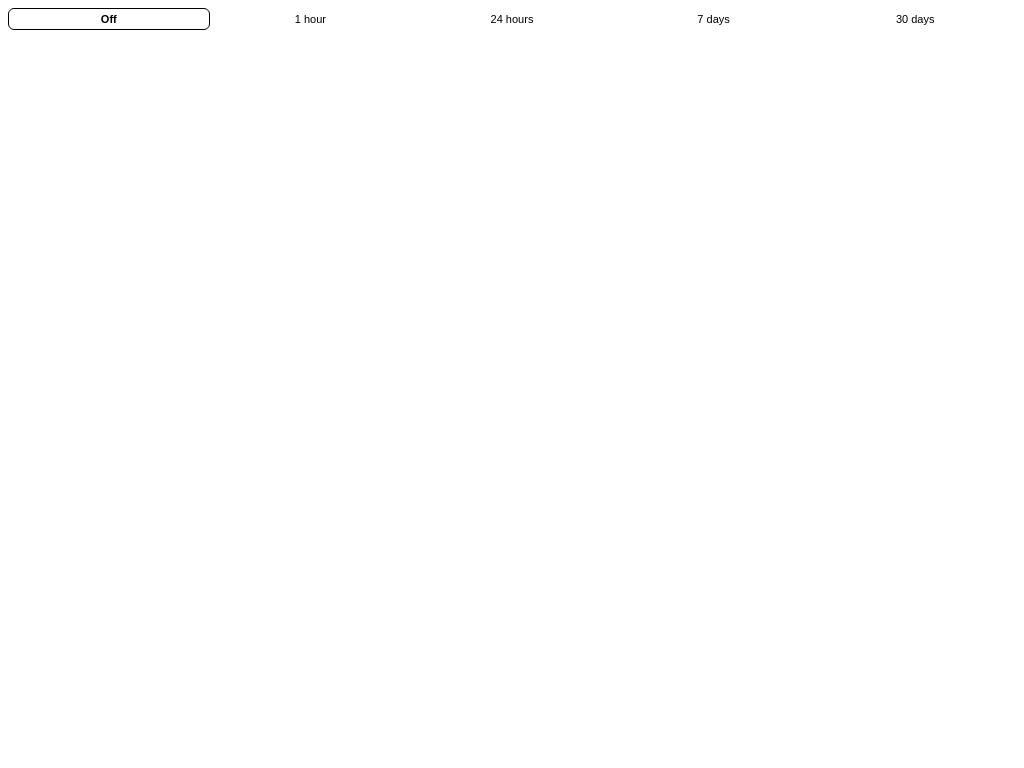
Test case: MessageExpirationEditor › shows the chosen 7 days duration in the confirmation disclosure
Click the button "7 days" at [714, 19], box [613, 8, 814, 30]
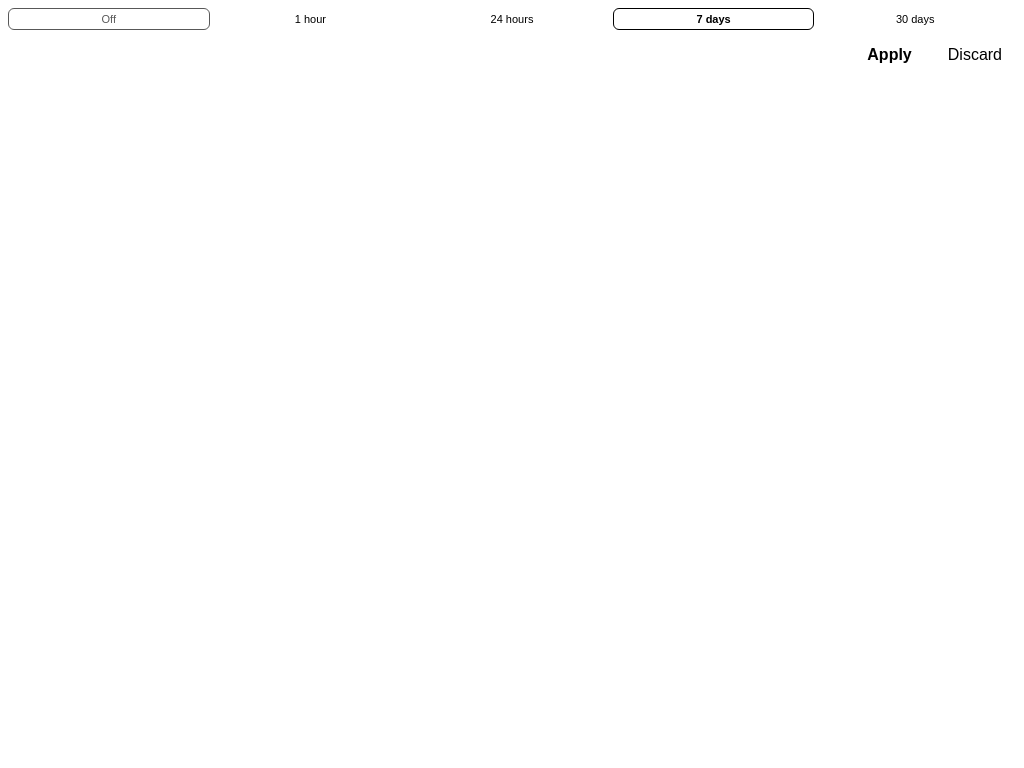
Click the button "Apply" at [890, 55], box [853, 40, 926, 70]
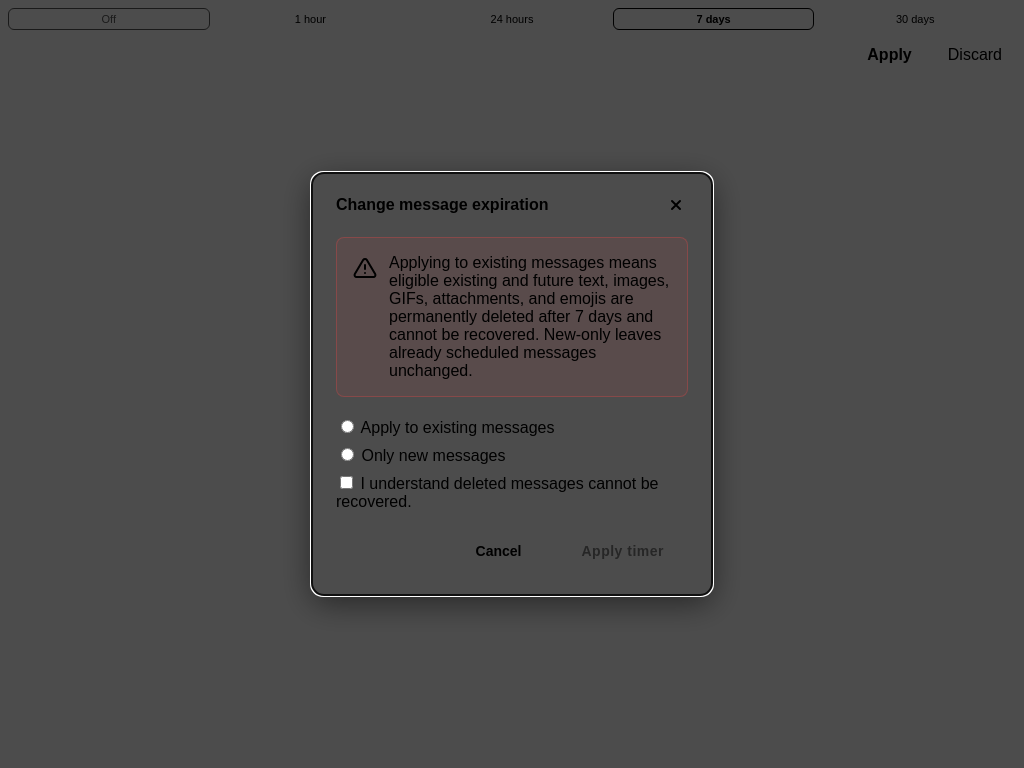
Expected: the text "after 7 days" is shown, [389, 254, 669, 379]
